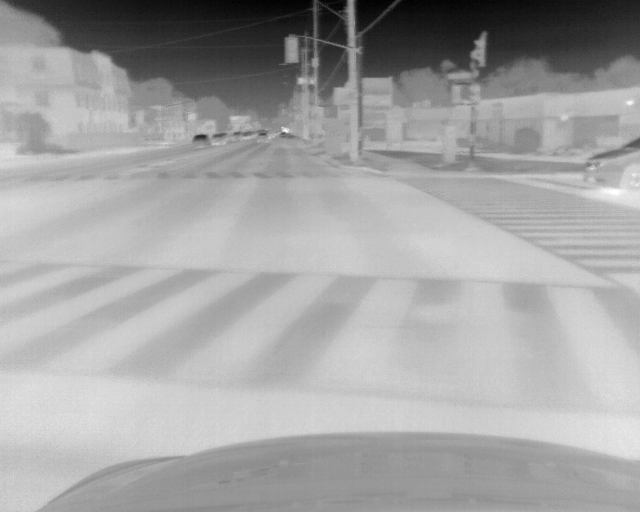car: (583, 133, 640, 191), (192, 134, 211, 149), (255, 130, 270, 144), (212, 133, 227, 146), (228, 132, 241, 143), (241, 130, 254, 140)
